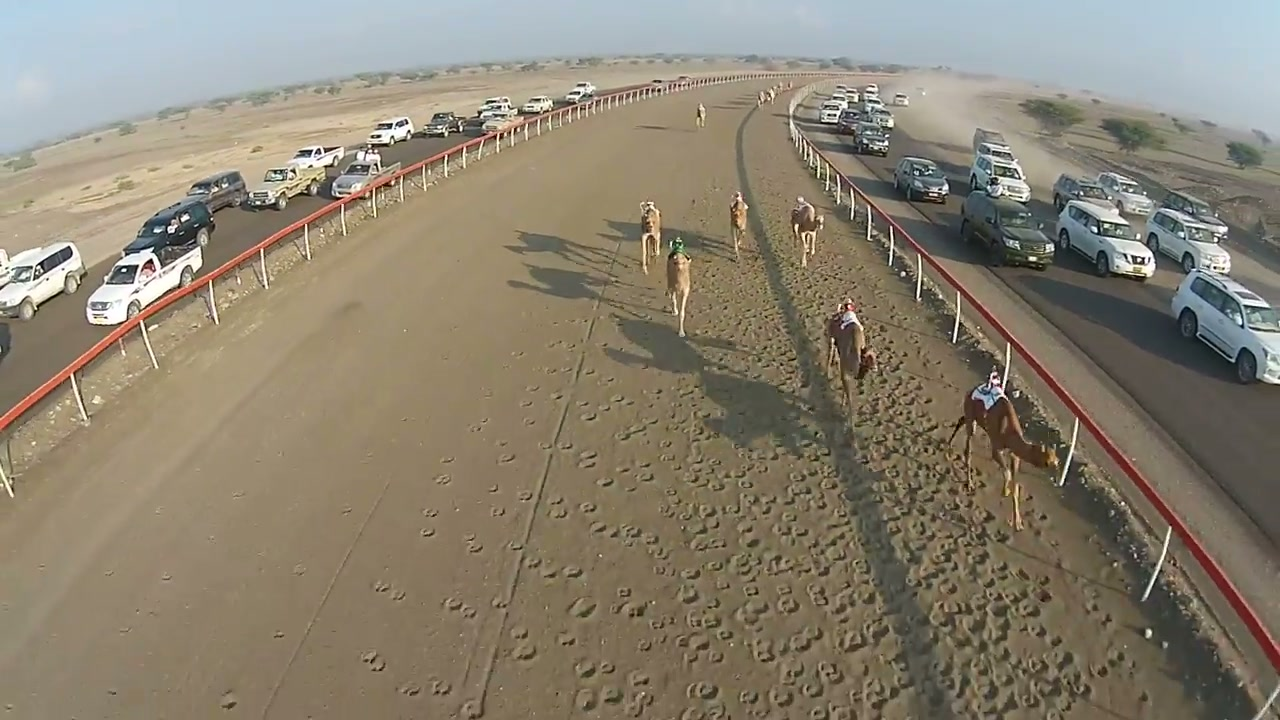animal_foot_print: (280, 108, 1247, 719), (493, 120, 1204, 717)
